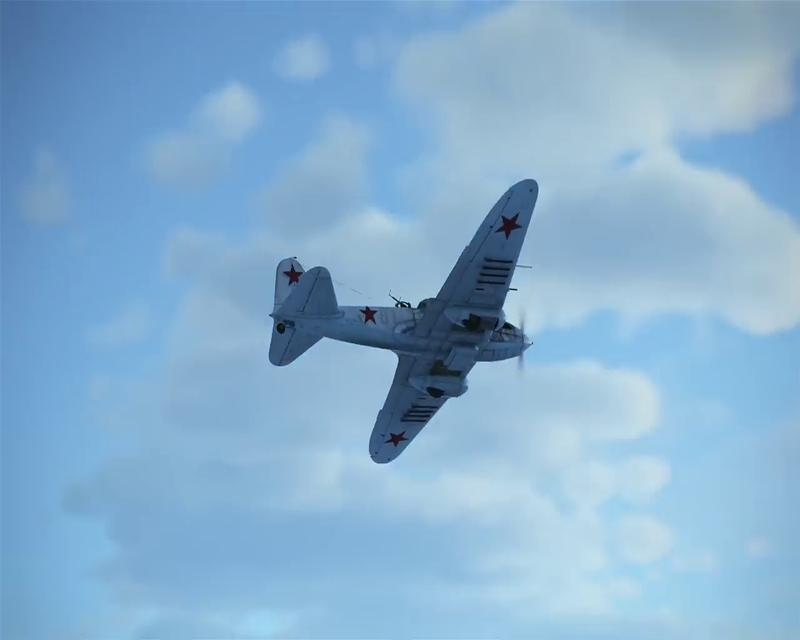UAV: (268, 178, 540, 463)
